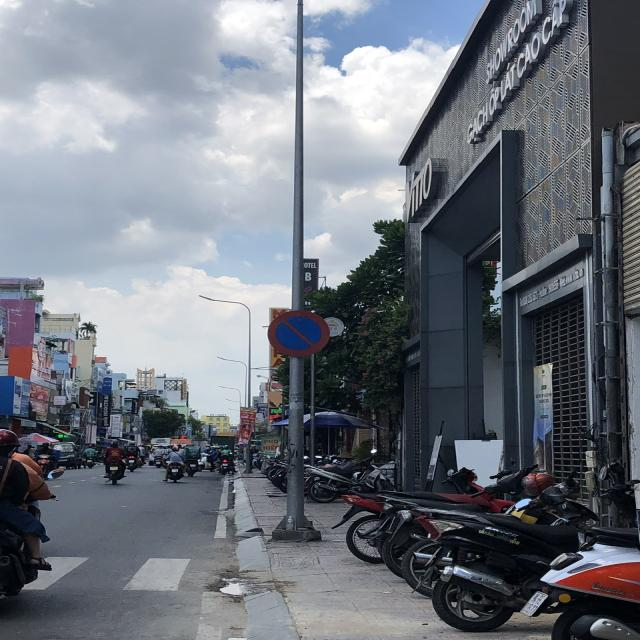Bien bao cam do xe: (268, 308, 333, 359)
